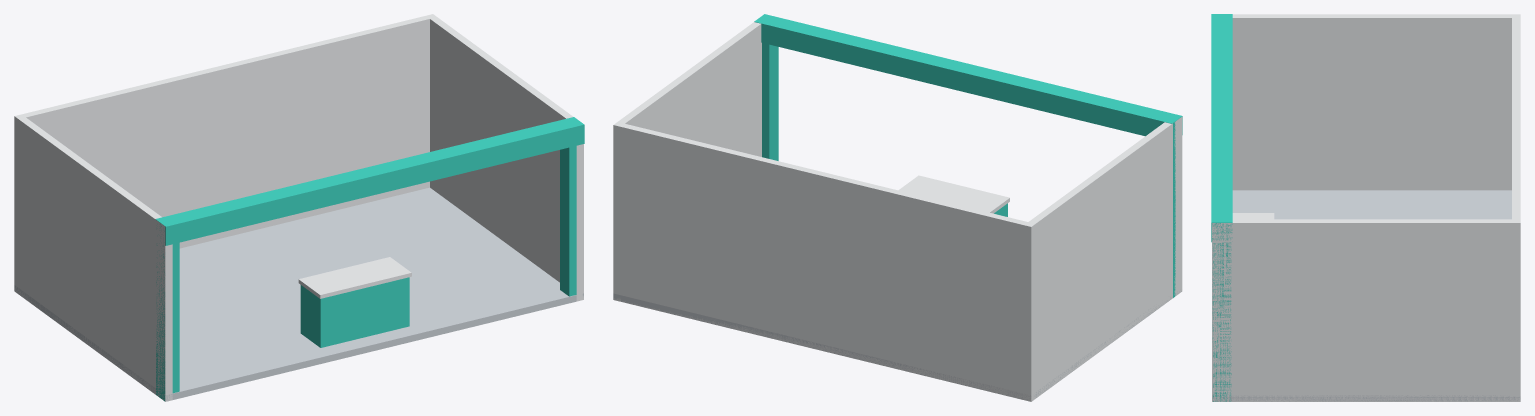
3 views of the same model, side by side, from view 1: azimuth 30°, elevation 25°; view 2: azimuth 150°, elevation 25°; view 3: azimuth 270°, elevation 25° (orthographic). The views are drawn at different scales.
Visible parts, largest first — view 1: Exhibition Booth Concept; view 2: Exhibition Booth Concept; view 3: Exhibition Booth Concept.
Boxes of the visible parts, bbox=[...] form: Exhibition Booth Concept: bbox=[14, 14, 584, 401]; Exhibition Booth Concept: bbox=[613, 14, 1182, 401]; Exhibition Booth Concept: bbox=[1211, 14, 1520, 401].
Size of the model in its own units: 8 by 3.2 by 5.02.
